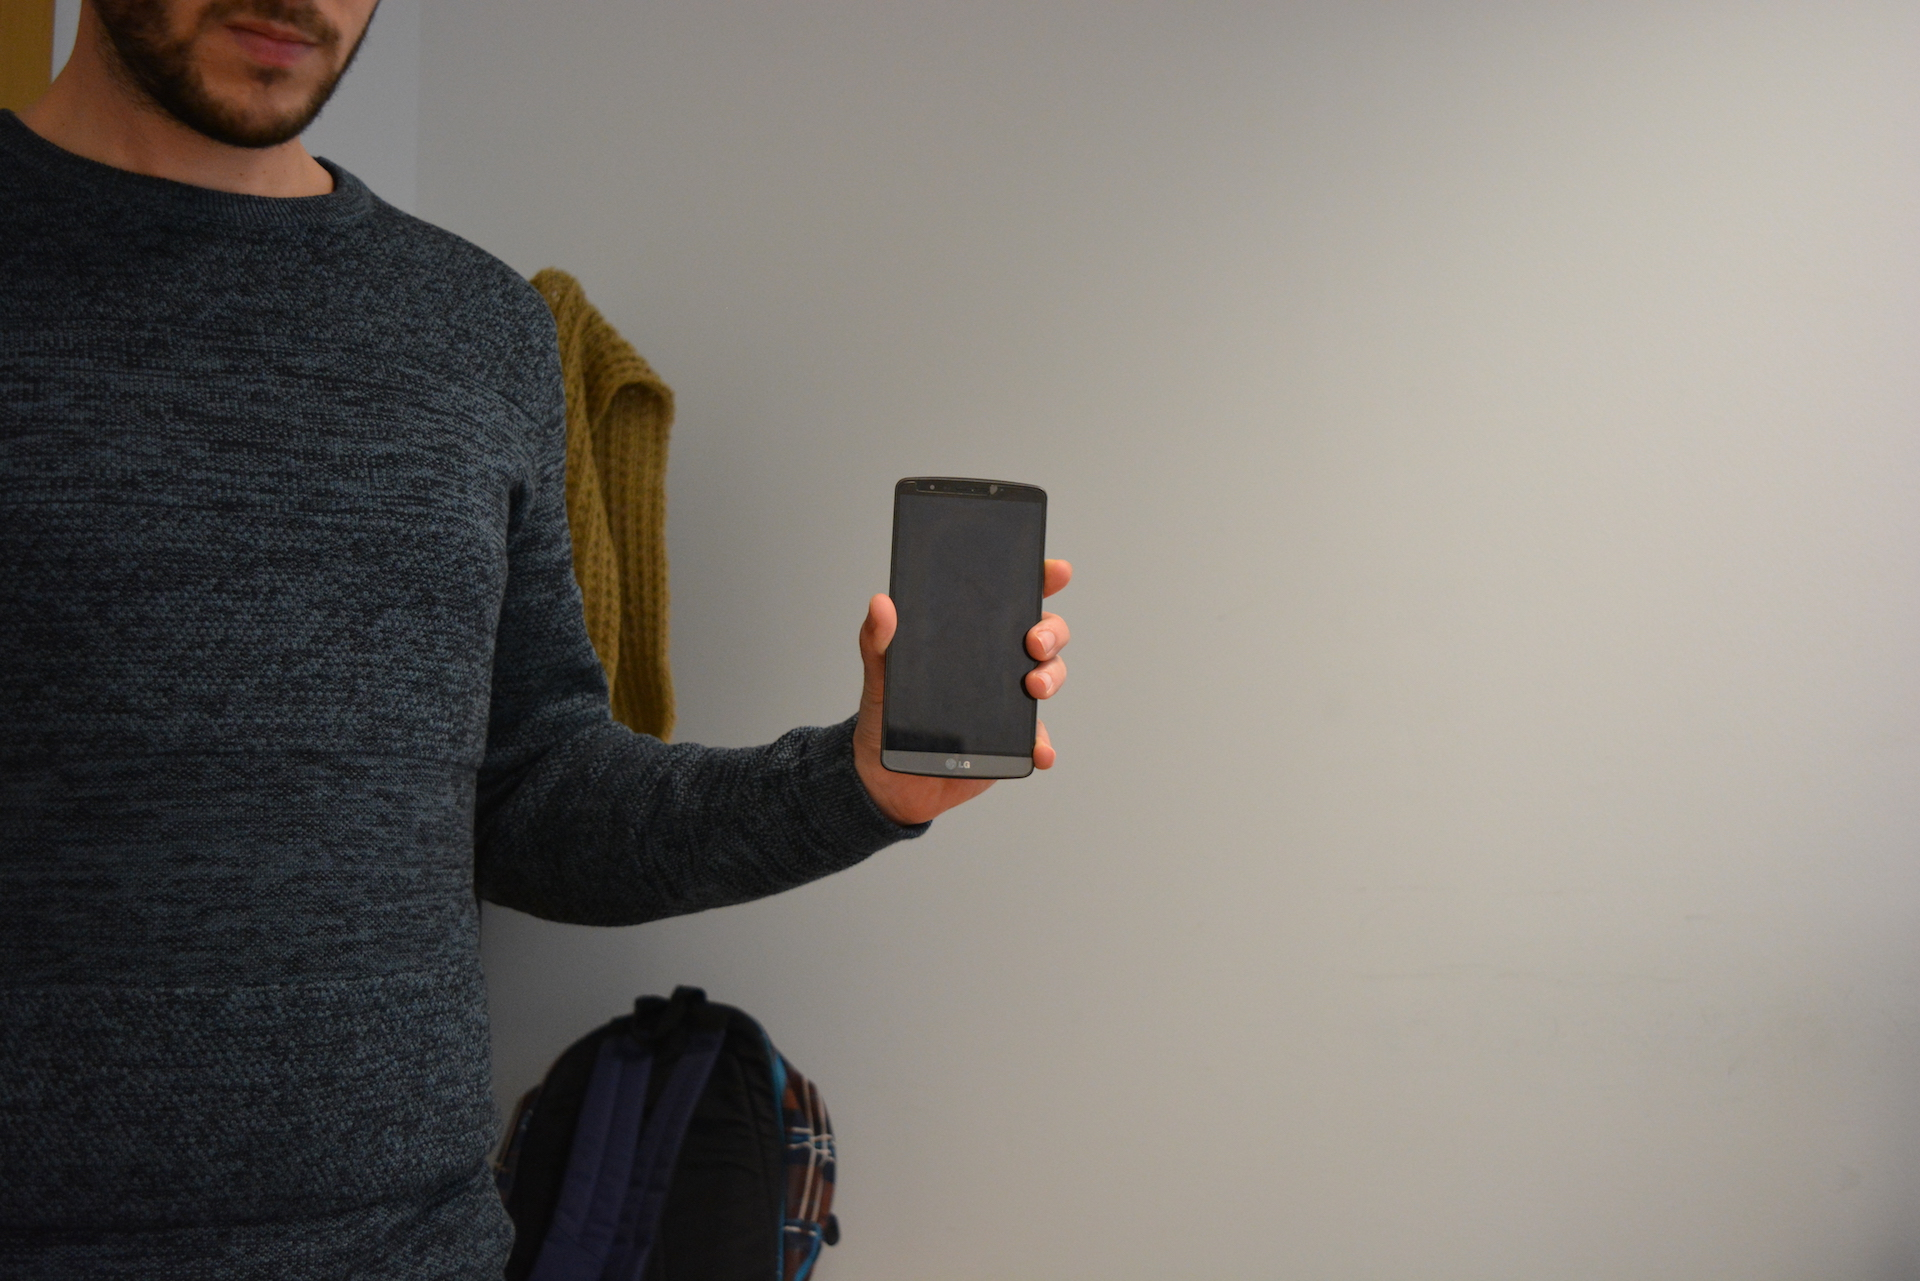smartphone: (878, 473, 1049, 782)
